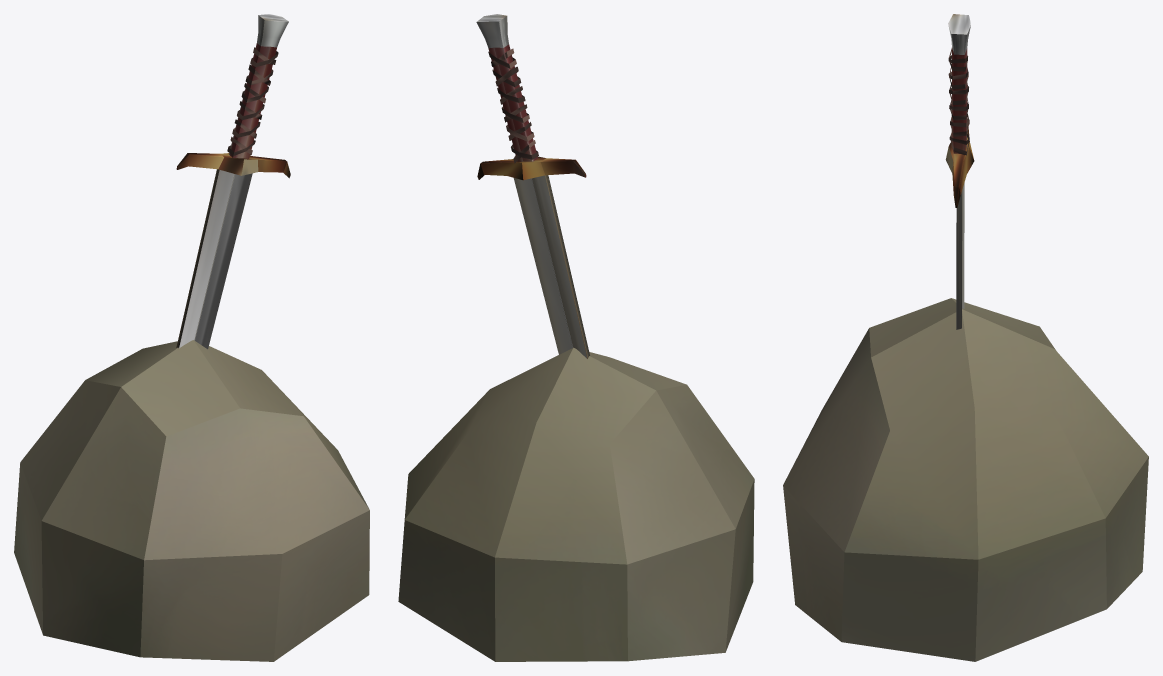
File: arthur kılıç excalibur 1.fbx
3 views of the same model, side by side, from view 1: azimuth 30°, elevation 25°; view 2: azimuth 150°, elevation 25°; view 3: azimuth 270°, elevation 25° (orthographic). The views are drawn at different scales.
Visible parts, largest first — view 1: Cube, Plane.001; view 2: Cube, Plane.001; view 3: Cube, Plane.001.
Part boxes in pixels (left/top/right/bottom): Cube: left=14, top=340, right=369, bottom=661; Plane.001: left=176, top=14, right=290, bottom=349; Cube: left=398, top=347, right=754, bottom=661; Plane.001: left=476, top=14, right=589, bottom=358; Cube: left=783, top=298, right=1148, bottom=661; Plane.001: left=945, top=14, right=974, bottom=329.
Size of the model in its own units: 251 by 468 by 237.
Materials: 3 (3 with a texture image).
